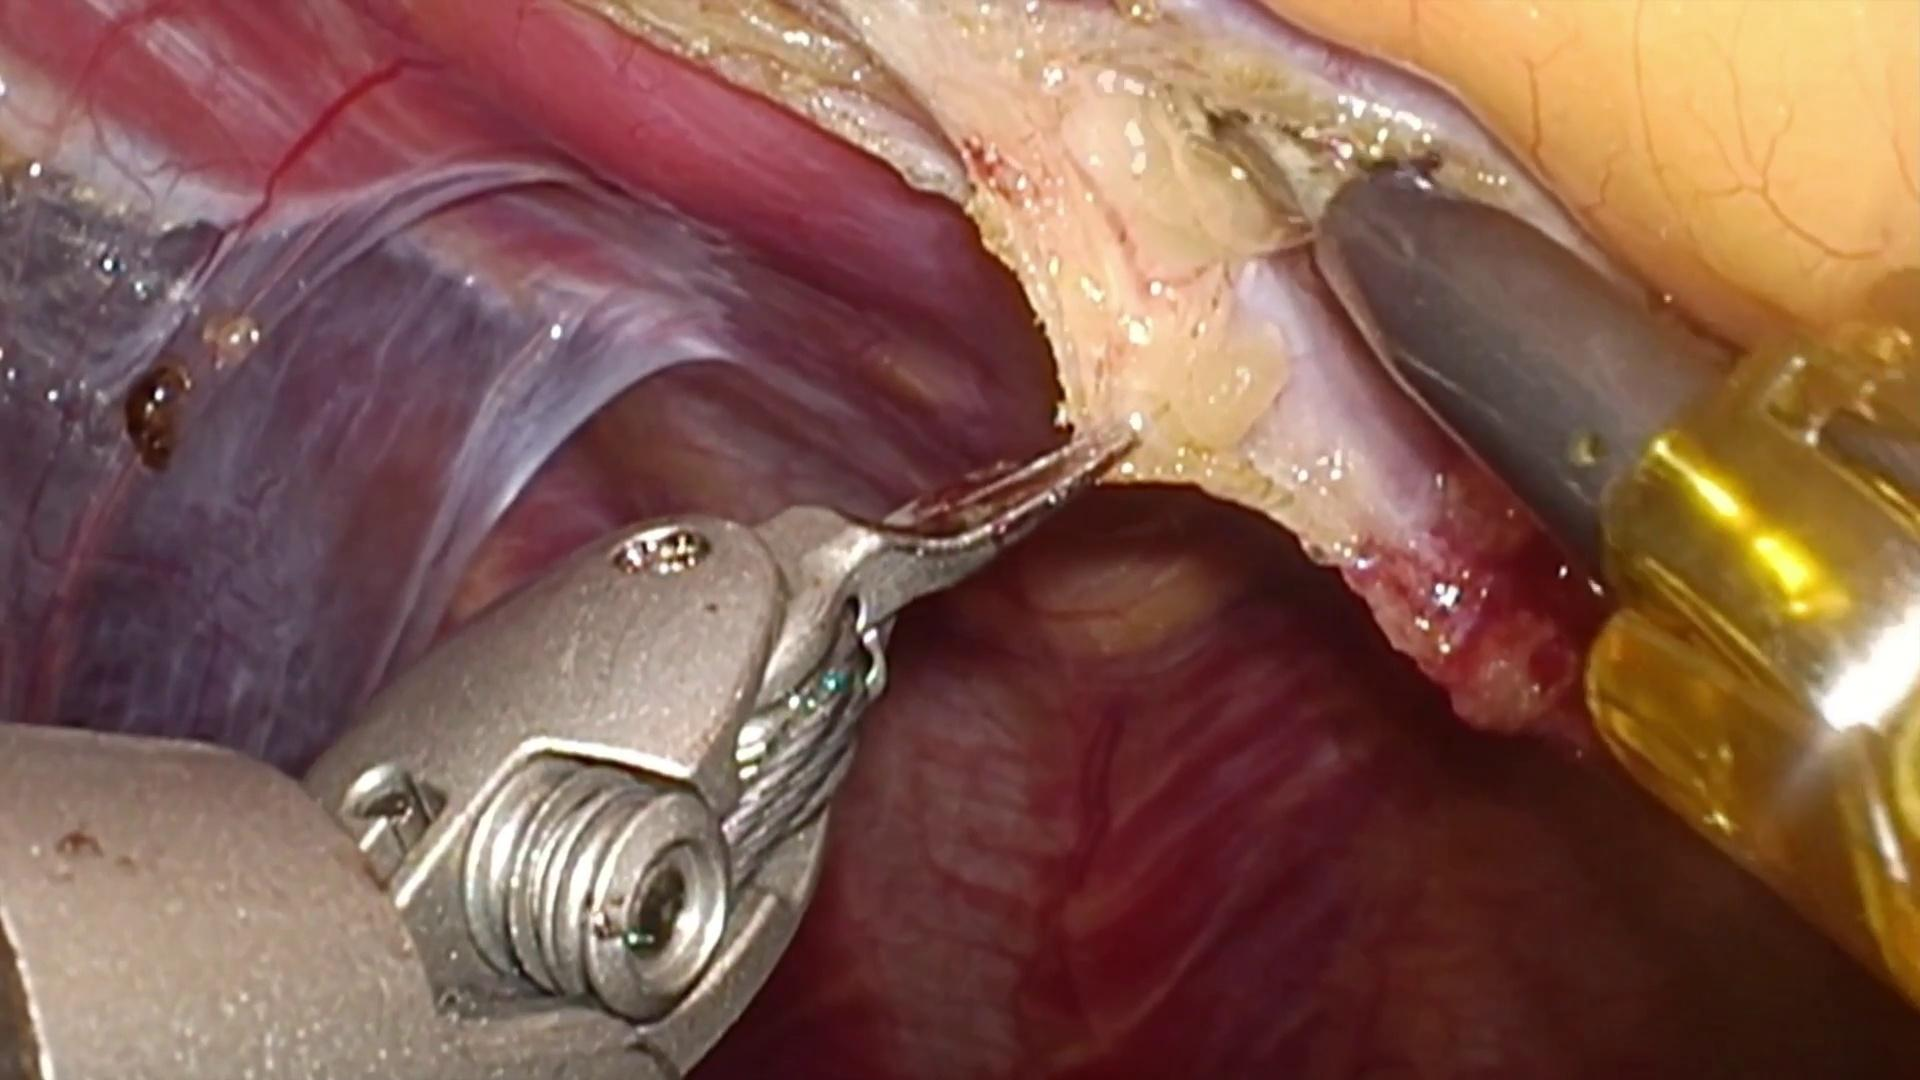Cautery_Spatula: (1216, 100, 1722, 530)
Debakey: (756, 393, 1147, 692)
